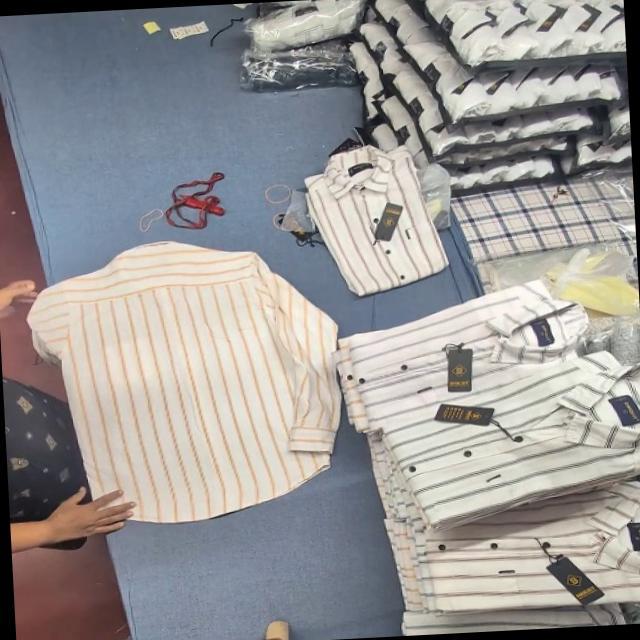new-garment: (29, 242, 340, 523)
